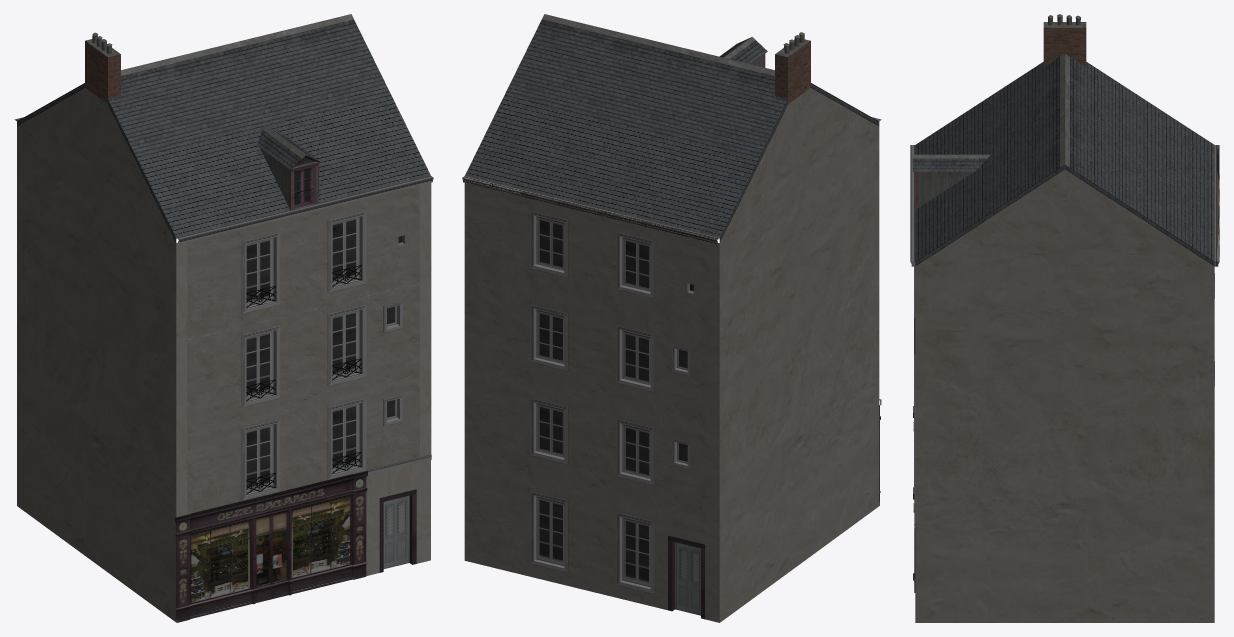
File: immeuble_laval_granit_commerce.glb
The picture shows the model from 3 angles, left to right: view 1: azimuth 30°, elevation 25°; view 2: azimuth 150°, elevation 25°; view 3: azimuth 270°, elevation 25°; orthographic projection. The views are drawn at different scales.
Visible parts, largest first — view 1: immeuble_laval_granit_commerce; view 2: immeuble_laval_granit_commerce; view 3: immeuble_laval_granit_commerce.
Boxes of the visible parts, x1=… form: immeuble_laval_granit_commerce: x1=14, y1=14, x2=433, y2=622; immeuble_laval_granit_commerce: x1=462, y1=14, x2=881, y2=622; immeuble_laval_granit_commerce: x1=910, y1=14, x2=1219, y2=622.
Size of the model in its own units: 8.03 by 15.78 by 8.94.
Materials: 1 (1 with a texture image).
